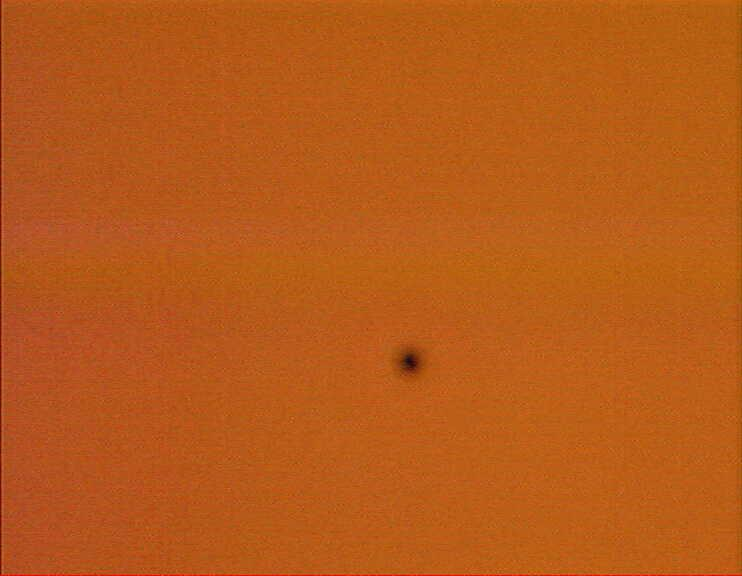PIQ PARTICLE: (387, 340, 435, 388)
